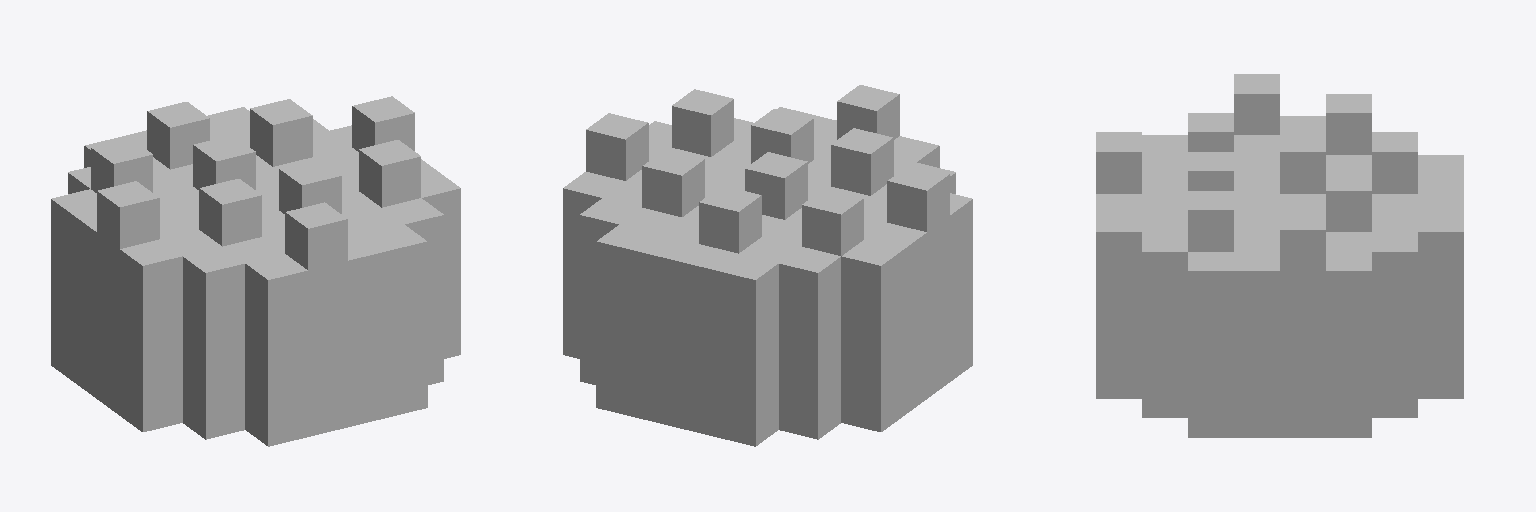
File: Cake.obj
3 renders of one model, left to right at view 1: azimuth 30°, elevation 25°; view 2: azimuth 150°, elevation 25°; view 3: azimuth 270°, elevation 25°, orthographic.
Parts seen in each view (by area): view 1: Cake; view 2: Cake; view 3: Cake.
Boxes of the visible parts, x1=… form: Cake: x1=51, y1=96, x2=460, y2=446; Cake: x1=563, y1=85, x2=972, y2=446; Cake: x1=1096, y1=74, x2=1463, y2=437.
Size of the model in its own units: 8 by 5 by 8.